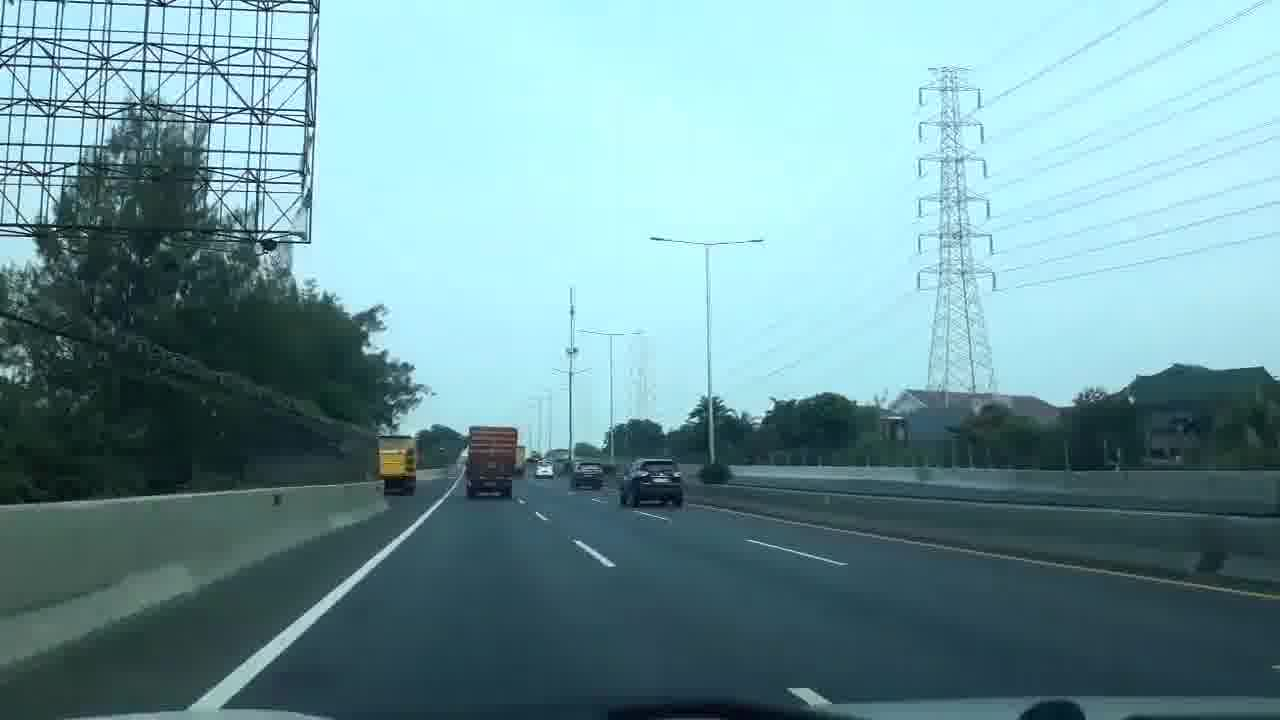plate_positive: (652, 477, 672, 483)
